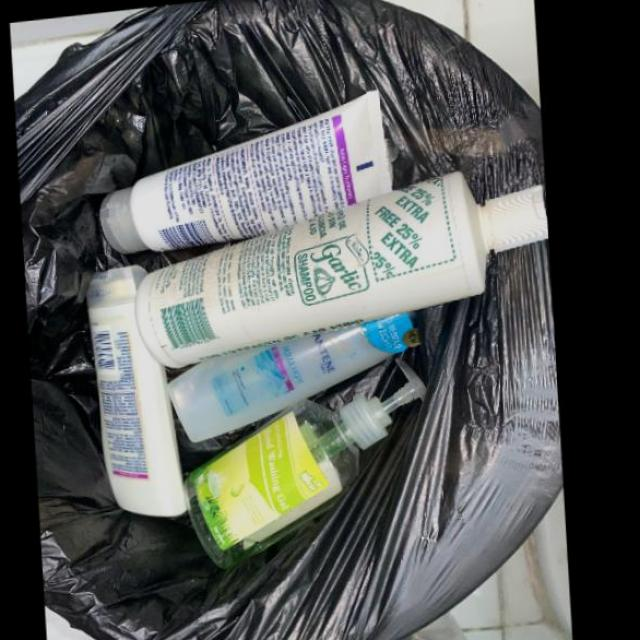chai_nhua: (135, 168, 550, 362), (185, 356, 427, 563), (99, 85, 395, 249), (169, 310, 421, 437), (87, 257, 189, 511)
